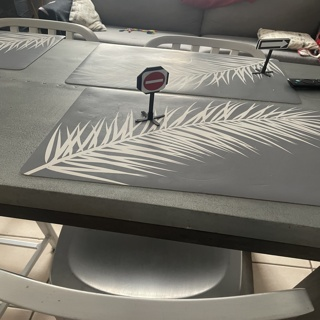sign_noentry: (141, 69, 164, 90)
sign_oneway_right: (258, 35, 287, 48)
